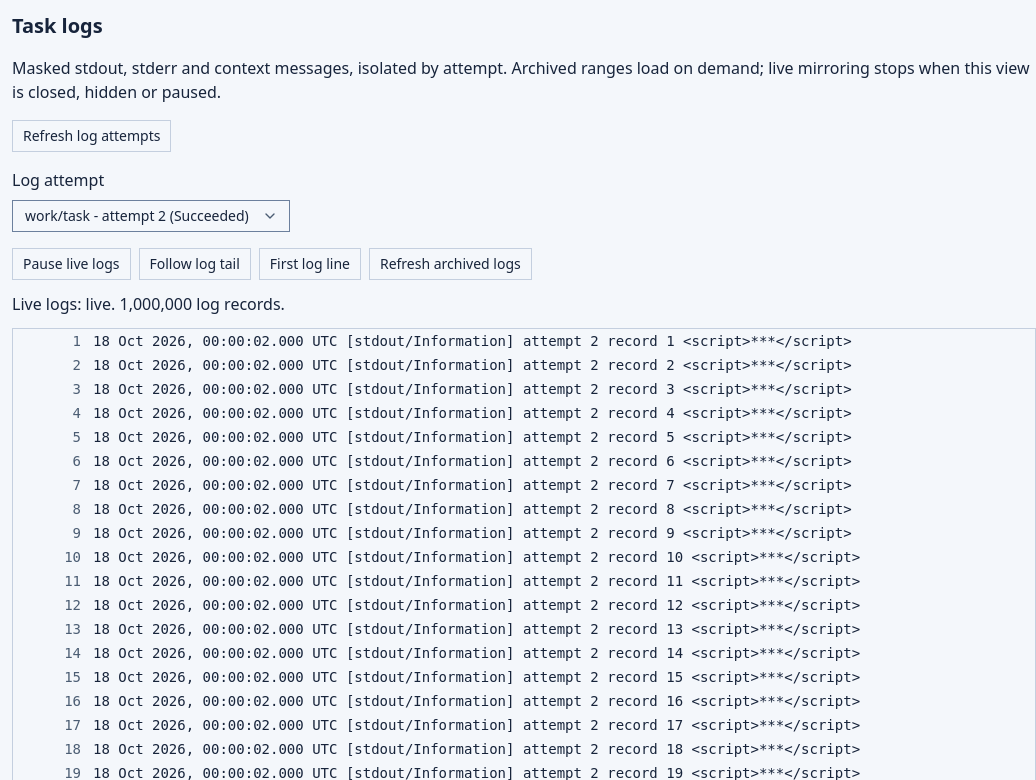
Test: virtualized per-attempt task logs › clears previous retry bytes immediately while the selected historical attempt loads
This screenshot has width=1036, height=780.
Expected: the text "attempt 2 record 1 <script>***</script>" is shown, [523,333,852,349]
Select "work/task - attempt 1 (Succeeded)" in the dropdown labelled "Log attempt" at coordinates (151, 216), box [12,200,290,232]
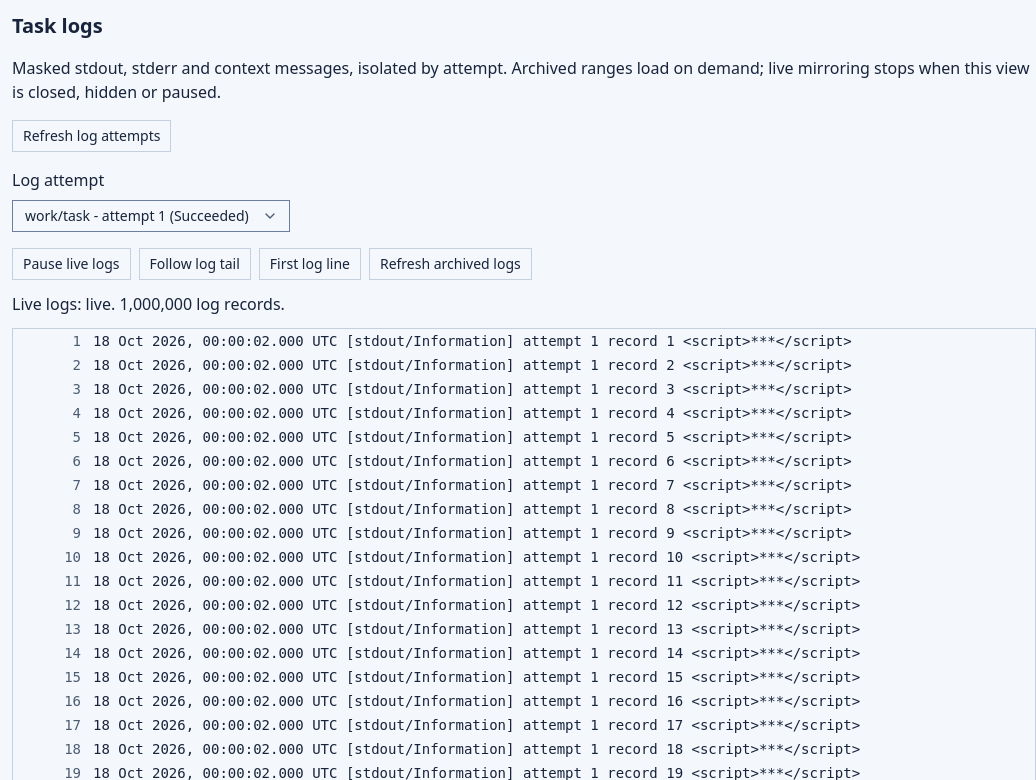
Expected: the text "attempt 2 record" is gone
Expected: the text "attempt 1 record 1 <script>***</script>" is shown, [523,333,852,349]
